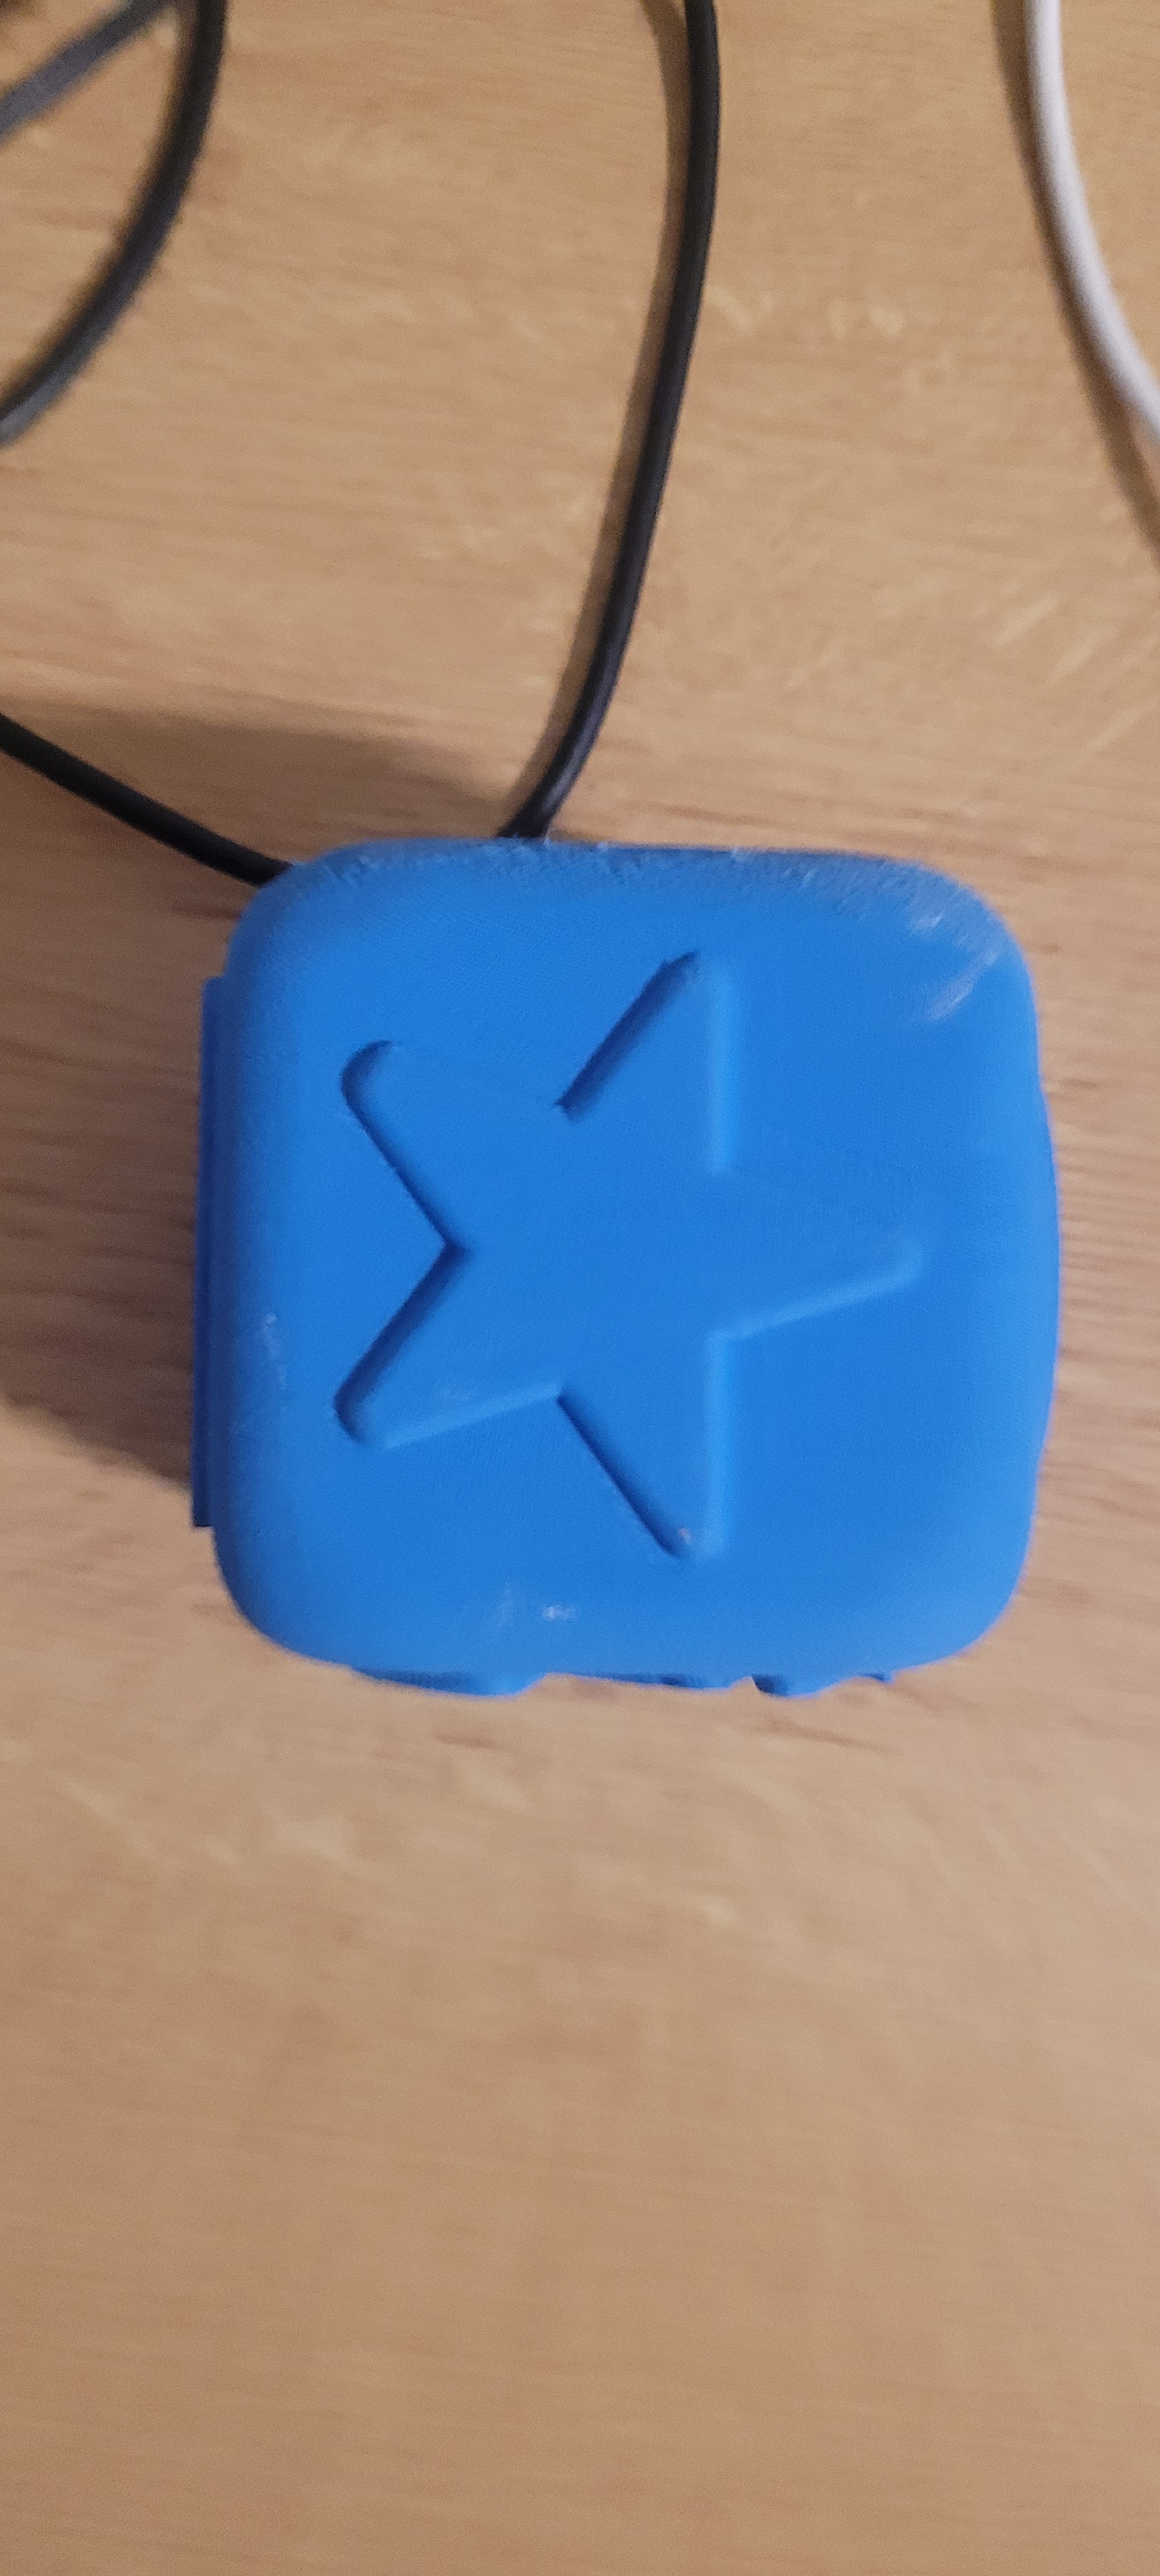Star: (238, 854, 927, 1709)
